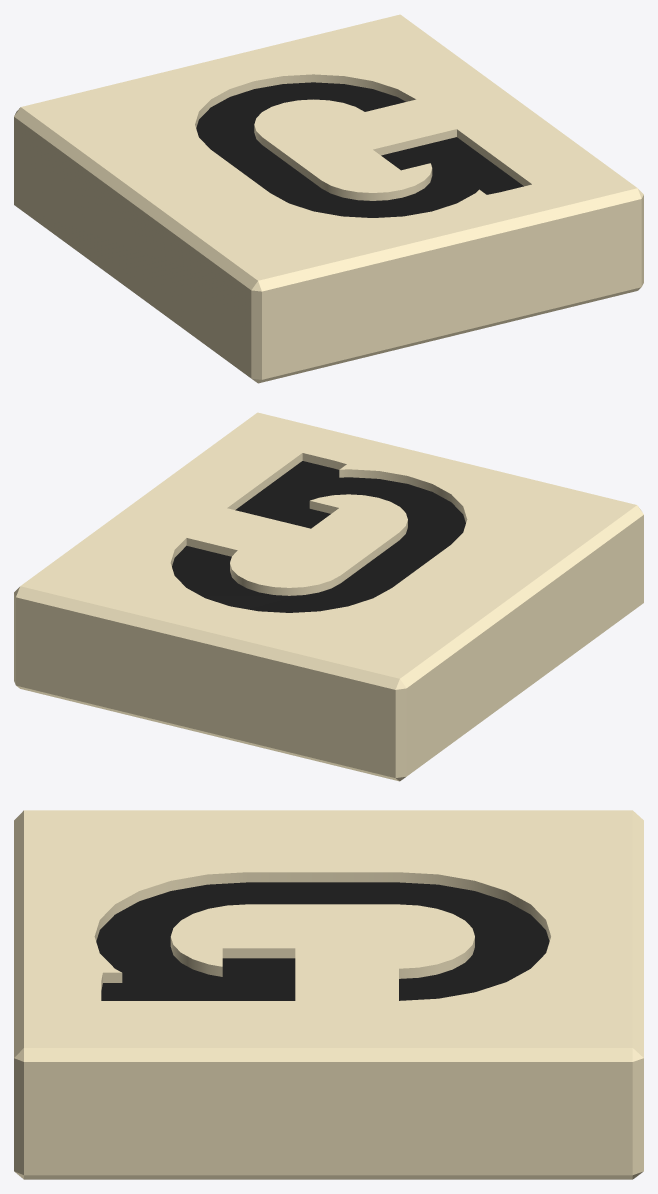
File: Boardgame_Piece_Anagram_Letter_G_01.fbx
3 renders of one model, top to bottom at view 1: azimuth 30°, elevation 25°; view 2: azimuth 150°, elevation 25°; view 3: azimuth 270°, elevation 25°, orthographic. The views are drawn at different scales.
Visible parts, largest first — view 1: Boardgame_Piece_Anagram_Letter_G_01; view 2: Boardgame_Piece_Anagram_Letter_G_01; view 3: Boardgame_Piece_Anagram_Letter_G_01.
Boxes of the visible parts, <box> form: Boardgame_Piece_Anagram_Letter_G_01: <box>14,14,643,383</box>; Boardgame_Piece_Anagram_Letter_G_01: <box>14,412,643,781</box>; Boardgame_Piece_Anagram_Letter_G_01: <box>14,810,643,1179</box>.
Size of the model in its own units: 39.37 by 9.84 by 42.65.
